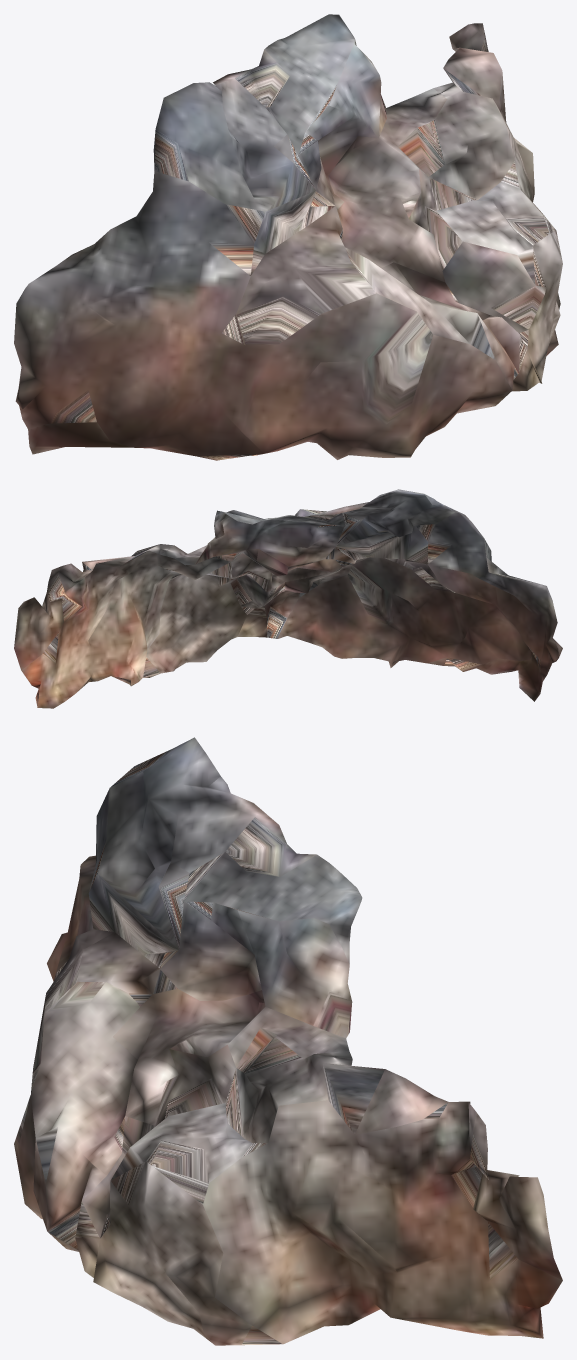
The model's file is sea-cliff.lod1.glb.
3 views of the same model, one above another, from view 1: azimuth 30°, elevation 25°; view 2: azimuth 150°, elevation 25°; view 3: azimuth 270°, elevation 25° (orthographic). The views are drawn at different scales.
Parts seen in each view (by area): view 1: geo1_Material_1_0; view 2: geo1_Material_1_0; view 3: geo1_Material_1_0.
Part boxes in pixels (box(x1,y1,x2,y2)): geo1_Material_1_0: box(14, 14, 562, 460); geo1_Material_1_0: box(14, 489, 562, 708); geo1_Material_1_0: box(14, 737, 562, 1345).
Bounding box in the file's own units: 29.74 × 15.81 × 19.48.
Materials: 1 (1 with a texture image).
